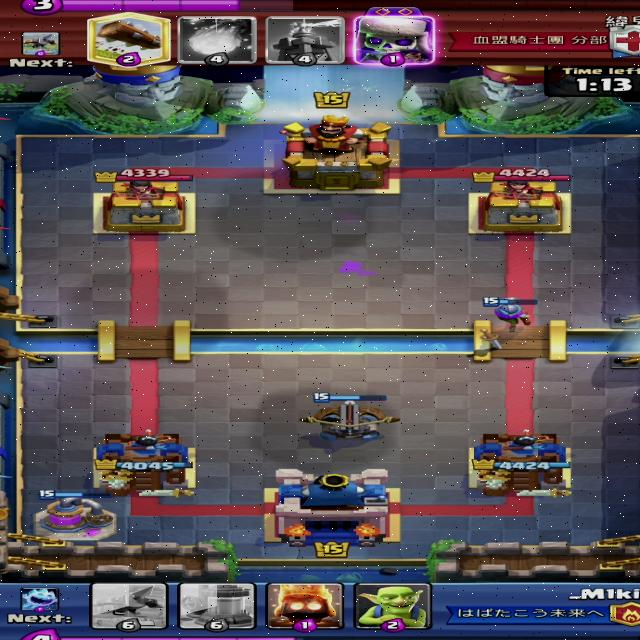Player-ElixirPump: (32, 489, 119, 543)
Player-Musketeer: (481, 297, 536, 334)
Player-XBow: (298, 393, 403, 440)
